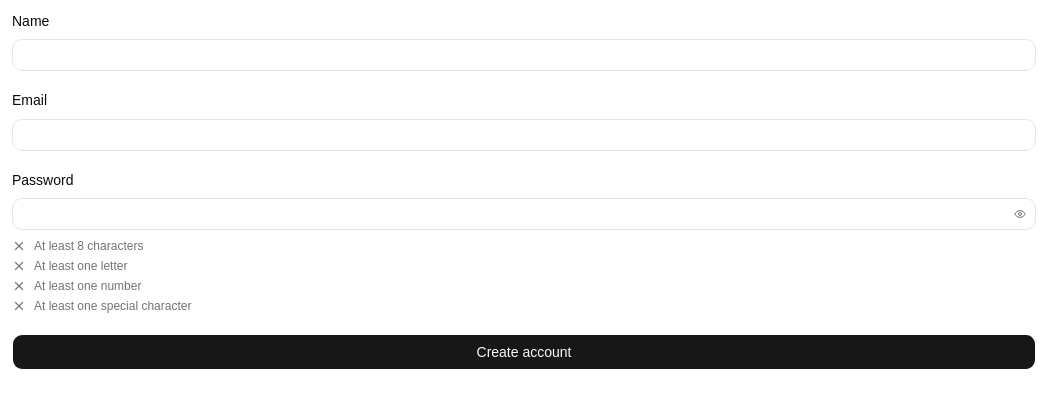
Test: SignUpForm › validates a field on blur
Type "not-an-email" into the field labelled "Email". click: point(524, 134)
box: [12,118,1036,150]
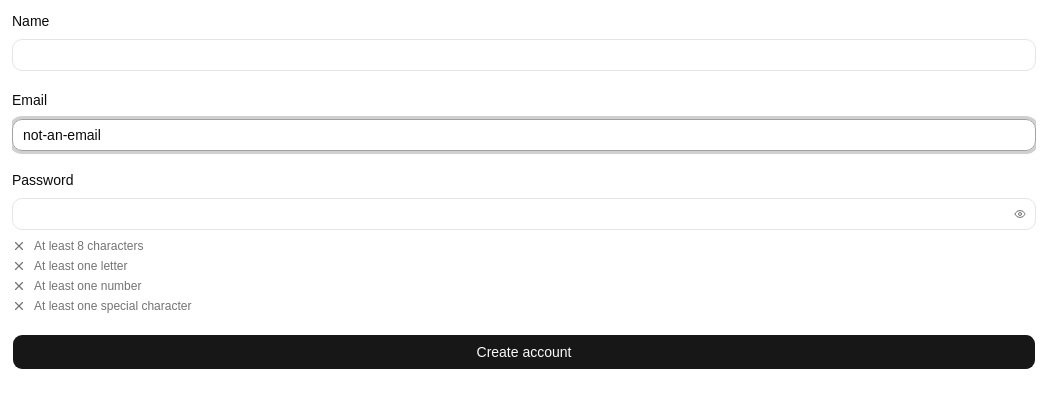
Expected: the text "Enter a valid email address" is not shown
Press Tab
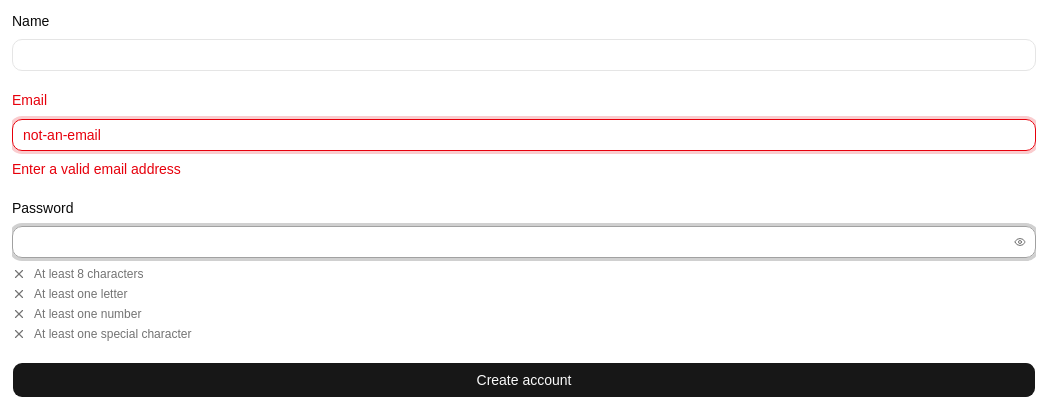
Now the text "Enter a valid email address" is shown, box [12,160,181,176]
